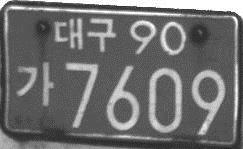0: (146, 65, 183, 133), (160, 20, 188, 56)
6: (105, 64, 141, 132)
7: (63, 60, 100, 130)
9: (190, 68, 227, 139), (129, 17, 157, 55)
가: (15, 60, 55, 108)
대구_O: (52, 16, 118, 53)
